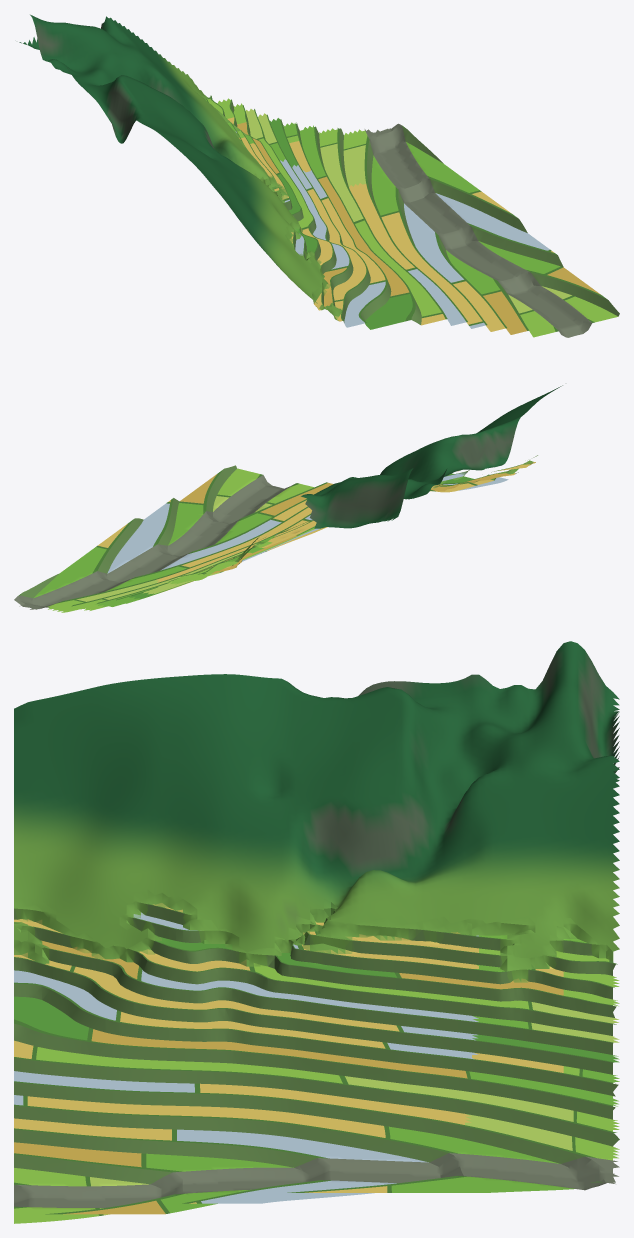
The model's file is payo_land_x0_y2.glb.
3 views of the same model, one above another, from view 1: azimuth 30°, elevation 25°; view 2: azimuth 150°, elevation 25°; view 3: azimuth 270°, elevation 25° (orthographic). The views are drawn at different scales.
Visible parts, largest first — view 1: payo_land_x0_y2; view 2: payo_land_x0_y2; view 3: payo_land_x0_y2.
Part boxes in pixels (x1=…): payo_land_x0_y2: x1=19, y1=14, x2=619, y2=337; payo_land_x0_y2: x1=14, y1=385, x2=562, y2=612; payo_land_x0_y2: x1=14, y1=641, x2=619, y2=1223.
Size of the model in its own units: 255 by 161 by 258.
